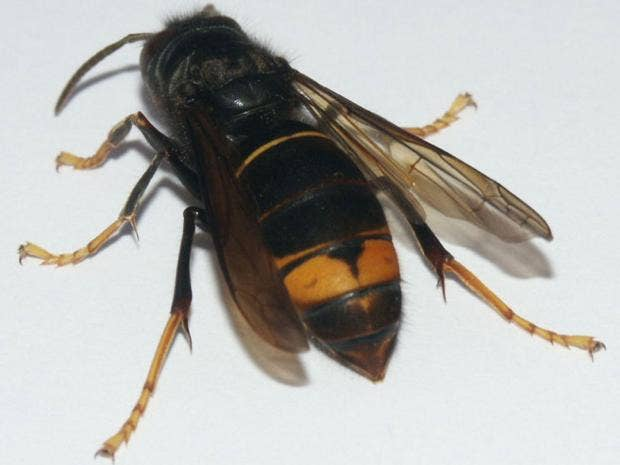hornet: (52, 2, 544, 423)
